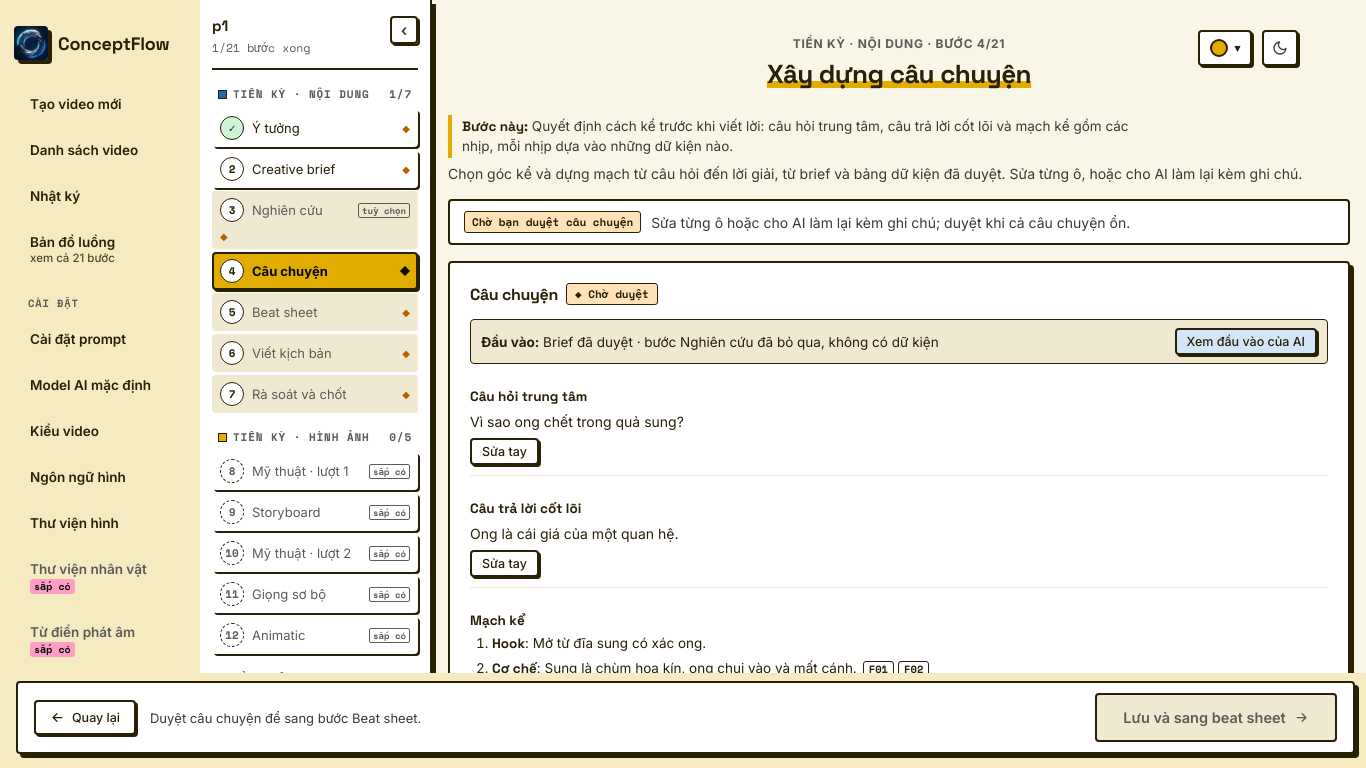
Scenario: StoryStepPage › says there are no facts when the research step was skipped
Check: the element with test id "story-input-summary" shows "bước Nghiên cứu đã bỏ qua", box x1=644 y1=334 x2=939 y2=350
Click the button with test id "story-input-open" at (1246, 342), box x1=1175 y1=328 x2=1317 y2=355
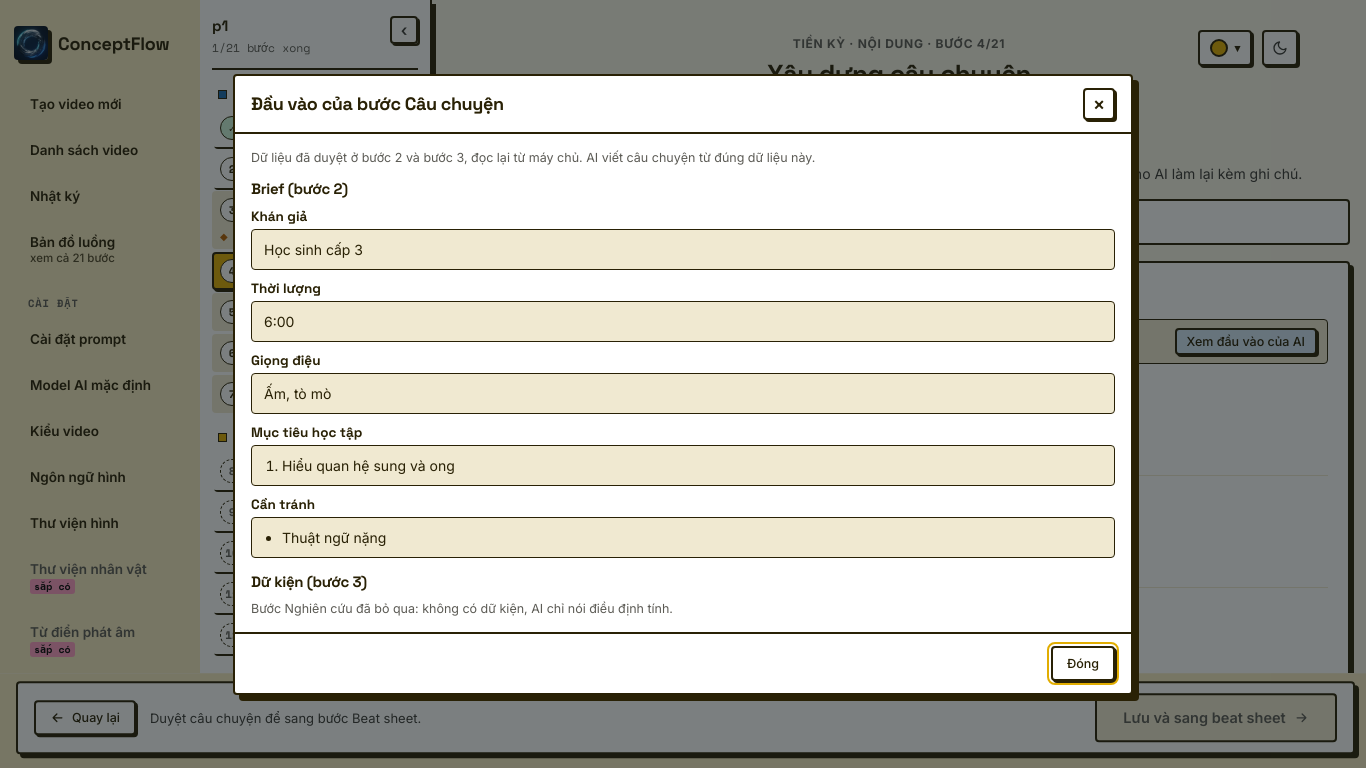
Check: the text with test id "story-input-no-facts" shows "không có dữ kiện", box x1=251 y1=600 x2=673 y2=616
